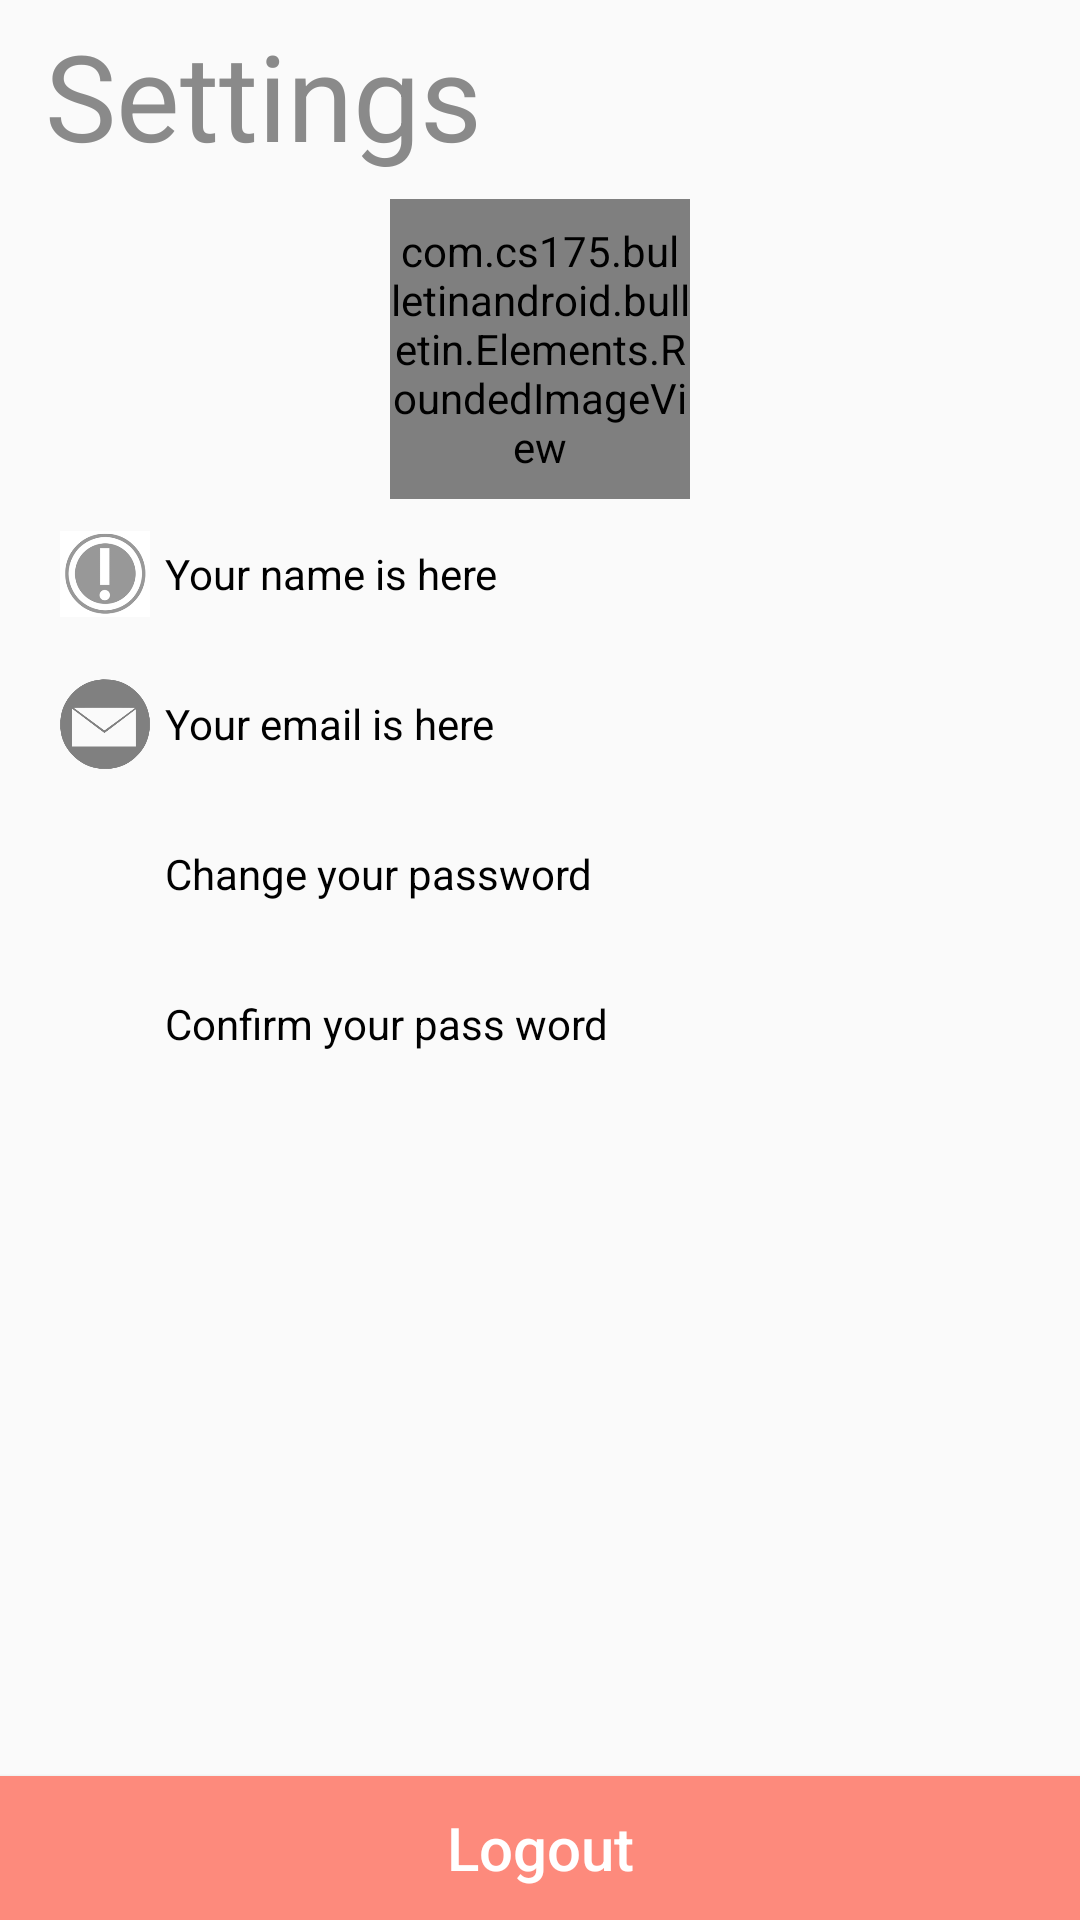

Named icons in this screenshot (1080w x 1920h) and their bounding boxes, (x1, y1, x2, y2):
alert: (65, 534, 146, 614)
